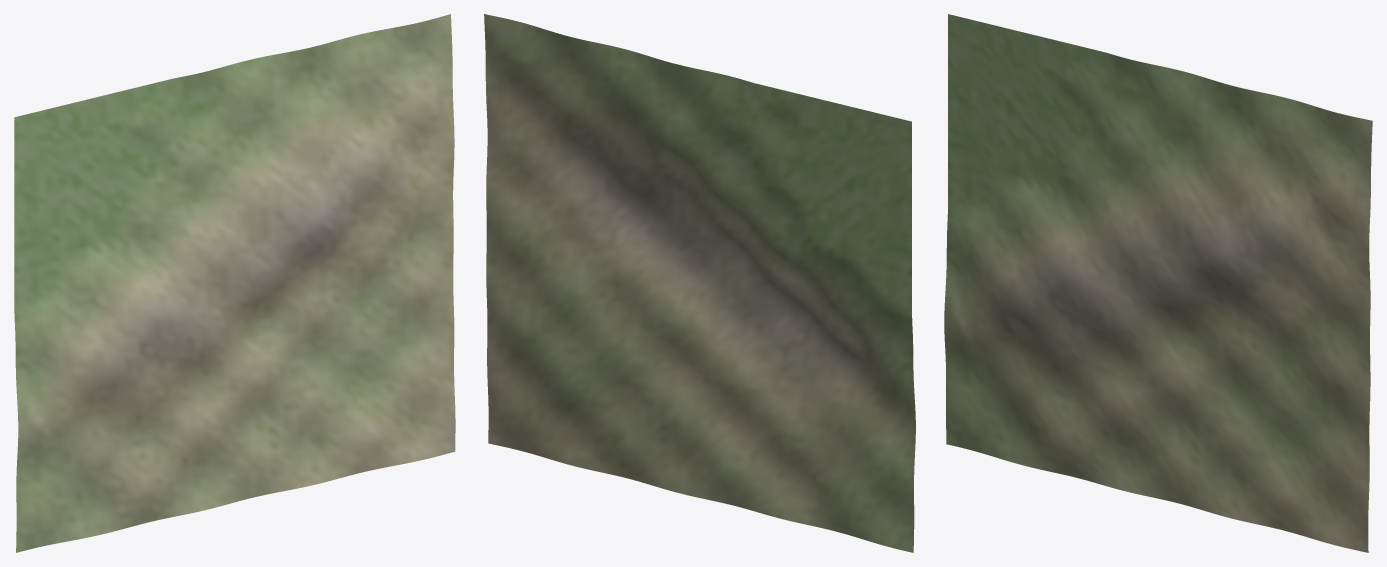
Rendered from terrain-base.glb.
3 views of the same model, side by side, from view 1: azimuth 30°, elevation 25°; view 2: azimuth 150°, elevation 25°; view 3: azimuth 330°, elevation 25° (orthographic).
Parts seen in each view (by area): view 1: terrain-base; view 2: terrain-base; view 3: terrain-base.
Boxes of the visible parts, x1,y1,x2,y2 form: terrain-base: (14, 14, 455, 552); terrain-base: (484, 14, 915, 552); terrain-base: (944, 14, 1372, 552).
Size of the model in its own units: 4320 by 4140 by 237.
